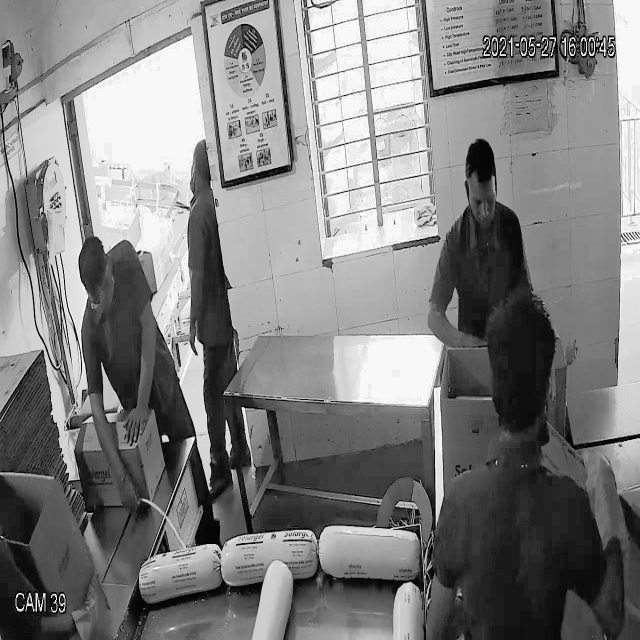Sin_gafas: (462, 184, 500, 216)
